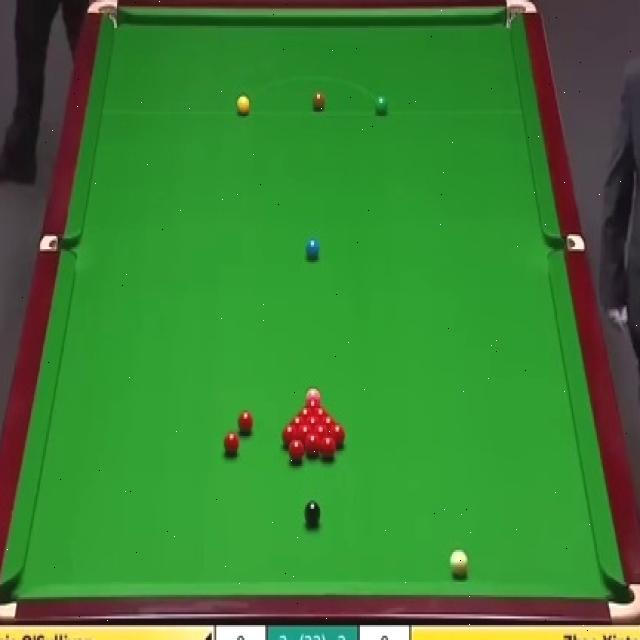black-ball: (302, 499, 320, 526)
blue-ball: (305, 240, 320, 258)
brown-ball: (312, 90, 326, 112)
green-ball: (374, 92, 389, 116)
pink-ball: (306, 388, 321, 404)
red-ball: (286, 438, 305, 463), (223, 431, 239, 456), (239, 409, 254, 434), (327, 424, 344, 446), (305, 433, 320, 456), (282, 424, 296, 448), (321, 437, 335, 460), (314, 426, 328, 448), (291, 415, 304, 429), (306, 401, 318, 414), (307, 417, 318, 430)
white-ball: (450, 548, 470, 578)
yellow-ball: (237, 95, 250, 116)
